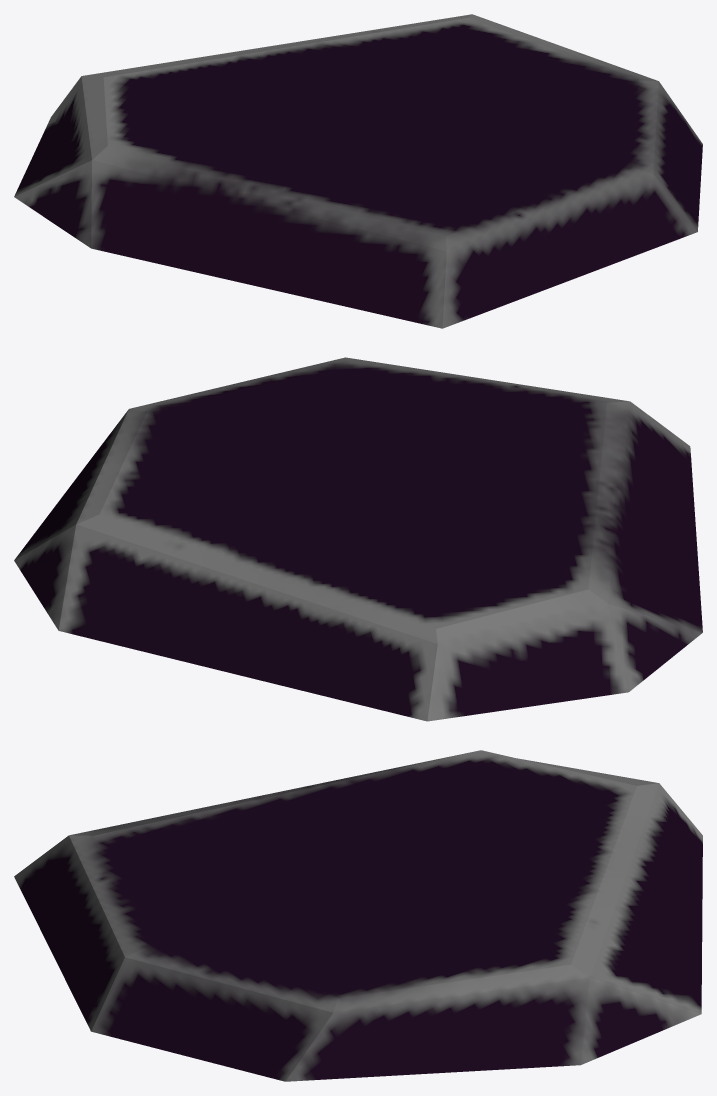
File: Rock01_Art.glb
3 views of the same model, one above another, from view 1: azimuth 30°, elevation 25°; view 2: azimuth 150°, elevation 25°; view 3: azimuth 270°, elevation 25° (orthographic). The views are drawn at different scales.
Visible parts, largest first — view 1: Rock01_Art; view 2: Rock01_Art; view 3: Rock01_Art.
Boxes of the visible parts, box(x1,y1,x2,y2) form: Rock01_Art: box(14, 14, 702, 328); Rock01_Art: box(14, 357, 702, 721); Rock01_Art: box(14, 750, 702, 1081).
Bounding box in the file's own units: 0.4521 × 0.0426 × 0.4318.
1 material, 1 textured.
